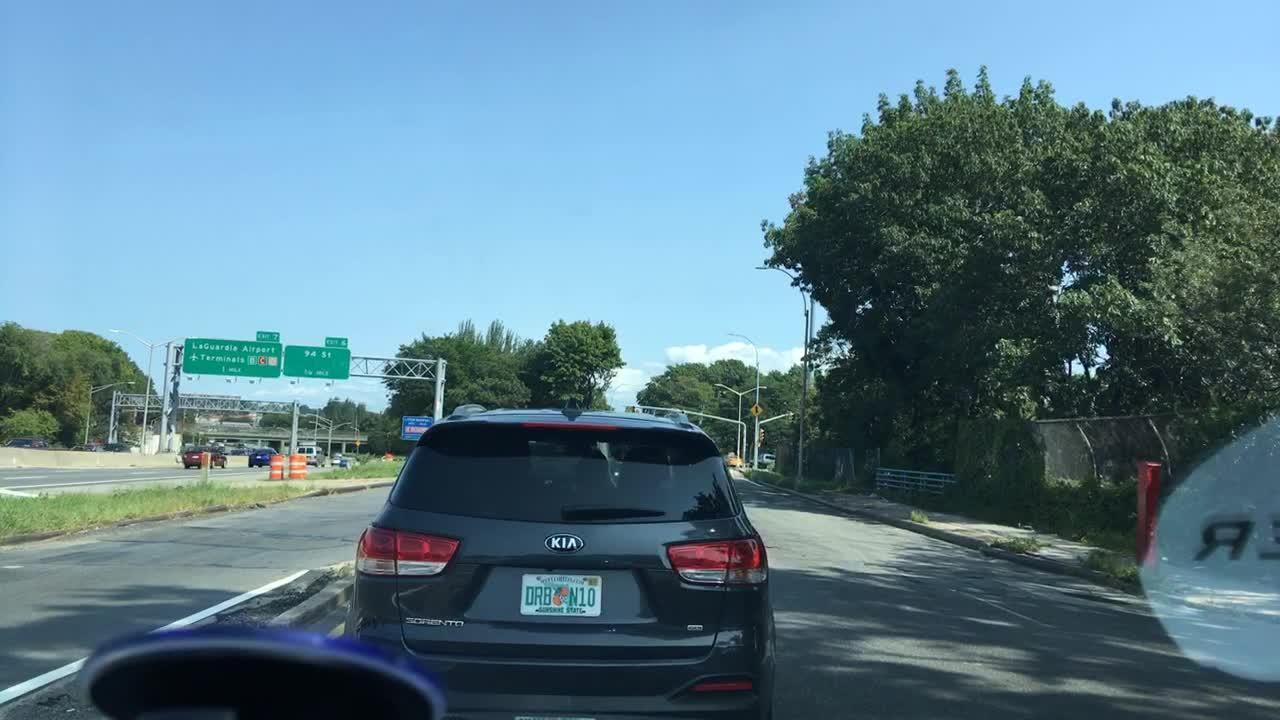kia: (537, 528, 591, 568)
